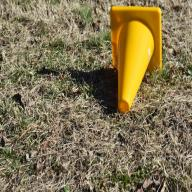cone: (110, 6, 162, 114)
